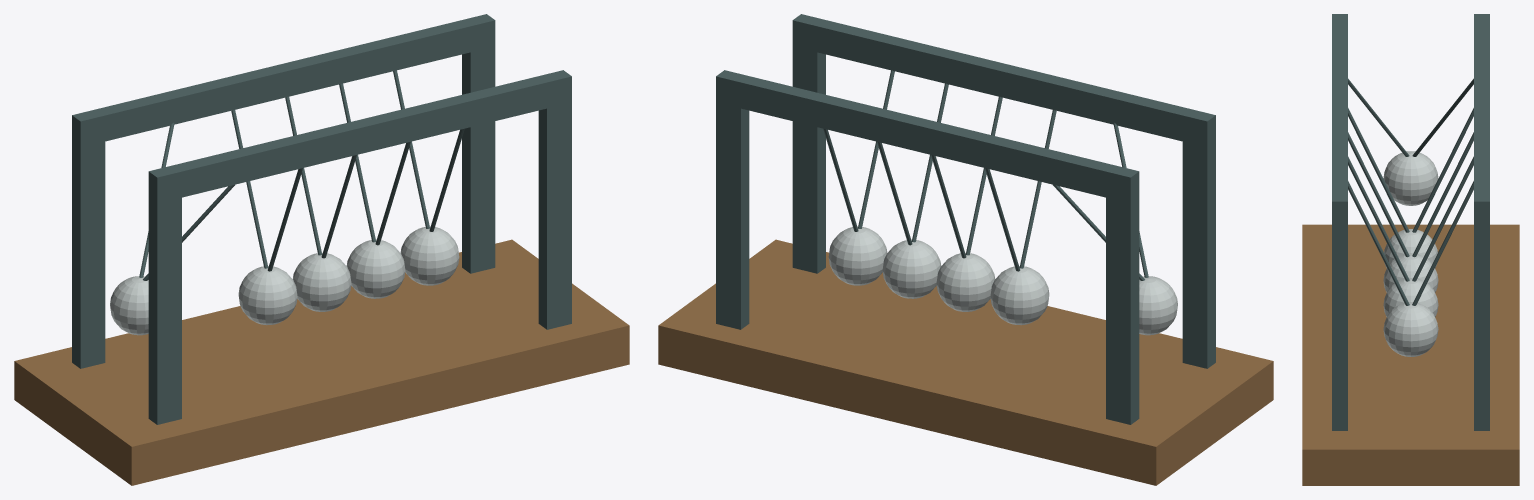
3 views of the same model, side by side, from view 1: azimuth 30°, elevation 25°; view 2: azimuth 150°, elevation 25°; view 3: azimuth 270°, elevation 25° (orthographic). The views are drawn at different scales.
Parts seen in each view (by area): view 1: WholeWoodenGroundPlinth, WholeParallelPortalFrame_-1, WholeParallelPortalFrame_1, WholeSuspendedSphere_1, WholeSuspendedSphere_2, WholeSuspendedSphere_3, WholeSuspendedSphere_4, WholeSuspendedSphere_0; view 2: WholeWoodenGroundPlinth, WholeParallelPortalFrame_1, WholeParallelPortalFrame_-1, WholeSuspendedSphere_1, WholeSuspendedSphere_2, WholeSuspendedSphere_3, WholeSuspendedSphere_4, WholeSuspendedSphere_0; view 3: WholeWoodenGroundPlinth, WholeParallelPortalFrame_-1, WholeParallelPortalFrame_1, WholeSuspendedSphere_4, WholeSuspendedSphere_0, WholeSuspendedSphere_3, WholeSuspendedSphere_2, WholeSuspendedSphere_1, WholePairedSuspensionWire_2_-1, WholePairedSuspensionWire_2_1, WholePairedSuspensionWire_3_-1, WholePairedSuspensionWire_3_1 (+6 smaller).
Boxes of the visible parts, left/top/right/bottom form: WholeWoodenGroundPlinth: left=14, top=239, right=629, bottom=485; WholeParallelPortalFrame_-1: left=148, top=70, right=571, bottom=424; WholeParallelPortalFrame_1: left=72, top=14, right=495, bottom=368; WholeSuspendedSphere_1: left=238, top=266, right=297, bottom=325; WholeSuspendedSphere_2: left=293, top=253, right=351, bottom=311; WholeSuspendedSphere_3: left=346, top=239, right=405, bottom=298; WholeSuspendedSphere_4: left=400, top=226, right=459, bottom=285; WholeSuspendedSphere_0: left=110, top=276, right=148, bottom=335; WholeWoodenGroundPlinth: left=658, top=239, right=1273, bottom=485; WholeParallelPortalFrame_1: left=716, top=70, right=1139, bottom=424; WholeParallelPortalFrame_-1: left=792, top=14, right=1215, bottom=368; WholeSuspendedSphere_1: left=990, top=266, right=1049, bottom=325; WholeSuspendedSphere_2: left=936, top=253, right=994, bottom=311; WholeSuspendedSphere_3: left=882, top=239, right=941, bottom=298; WholeSuspendedSphere_4: left=828, top=226, right=887, bottom=285; WholeSuspendedSphere_0: left=1139, top=276, right=1177, bottom=335; WholeWoodenGroundPlinth: left=1302, top=224, right=1519, bottom=485; WholeParallelPortalFrame_-1: left=1332, top=14, right=1347, bottom=430; WholeParallelPortalFrame_1: left=1474, top=14, right=1489, bottom=430; WholeSuspendedSphere_4: left=1383, top=302, right=1438, bottom=356; WholeSuspendedSphere_0: left=1383, top=151, right=1438, bottom=205; WholeSuspendedSphere_3: left=1383, top=278, right=1438, bottom=316; WholeSuspendedSphere_2: left=1383, top=253, right=1438, bottom=292; WholeSuspendedSphere_1: left=1384, top=229, right=1437, bottom=268; WholePairedSuspensionWire_2_-1: left=1348, top=132, right=1409, bottom=257; WholePairedSuspensionWire_2_1: left=1412, top=132, right=1473, bottom=257; WholePairedSuspensionWire_3_-1: left=1348, top=156, right=1409, bottom=281; WholePairedSuspensionWire_3_1: left=1412, top=156, right=1473, bottom=281.
Bounding box in the file's own units: 1.2 × 0.66 × 0.49.
